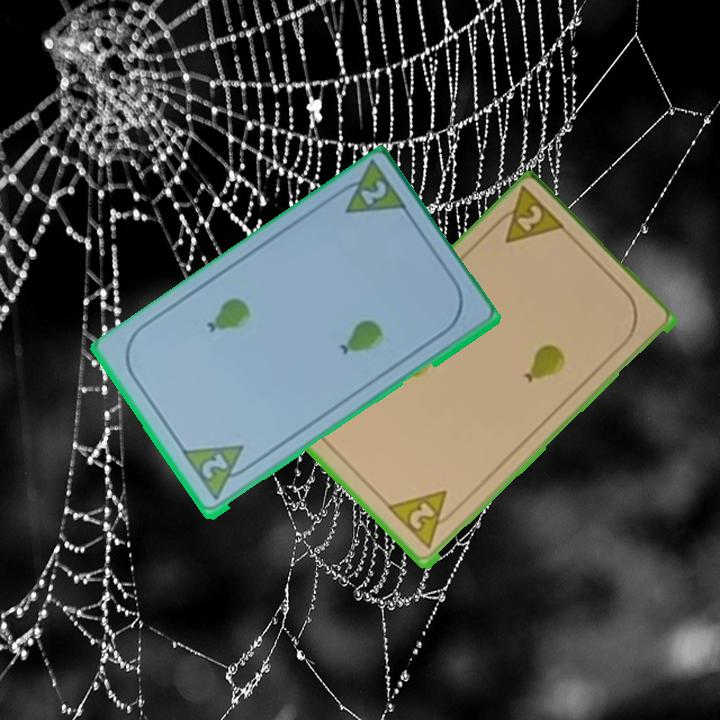2p: (486, 185, 570, 248), (385, 487, 462, 553), (197, 450, 231, 483), (356, 177, 390, 209)
